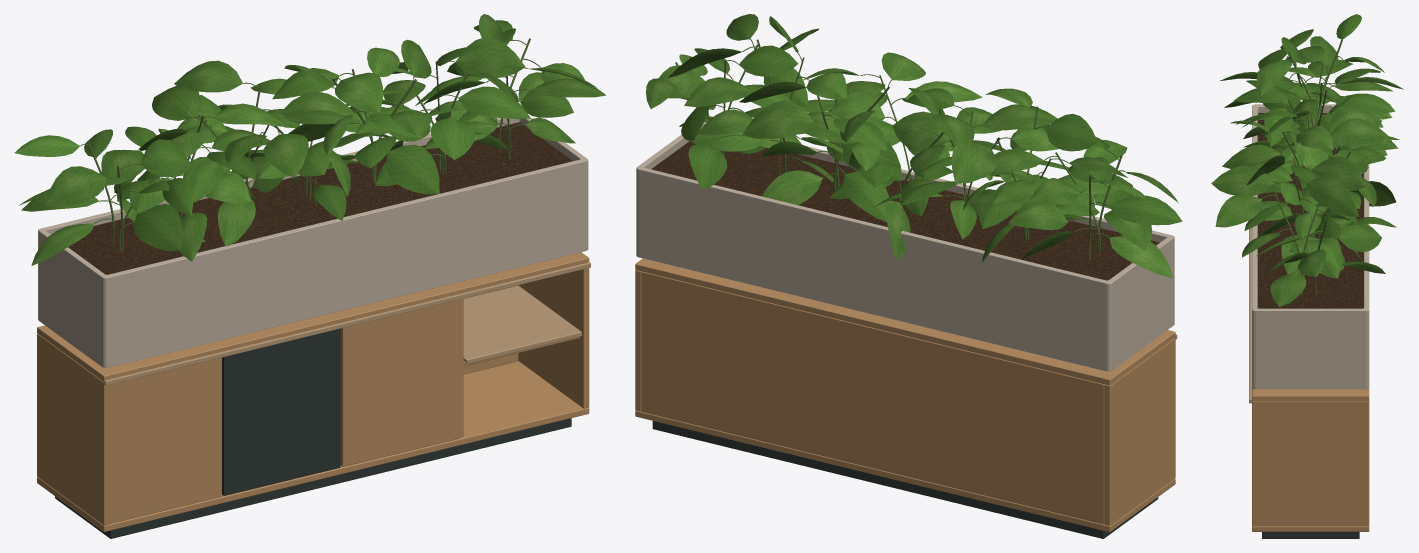
Rendered from botanicalDivider-13.glb.
3 renders of one model, left to right at view 1: azimuth 30°, elevation 25°; view 2: azimuth 150°, elevation 25°; view 3: azimuth 270°, elevation 25°, orthographic. The views are drawn at different scales.
Parts seen in each view (by area): view 1: Planter_pothos_leaves, Planter_oiled_oak, StoragePlanter_Door (×3), StoragePlanter_Side (×2), Planter_loose_soil, StoragePlanter_Bottom, StoragePlanter_Top, StoragePlanter_OpenShelf, StoragePlanter_Plinth, Planter_pothos_stems, StoragePlanter_AccentRail, StoragePlanter_Divider; view 2: StoragePlanter_Back, Planter_pothos_leaves, Planter_oiled_oak, Planter_loose_soil, StoragePlanter_Side (×2), StoragePlanter_Top, StoragePlanter_Plinth, StoragePlanter_Bottom, Planter_pothos_stems; view 3: Planter_pothos_leaves, StoragePlanter_Side, Planter_oiled_oak, Planter_loose_soil, Planter_pothos_stems, StoragePlanter_Top, StoragePlanter_Bottom, StoragePlanter_Plinth, StoragePlanter_AccentRail.
Boxes of the visible parts, left/top/right/bottom form: Planter_pothos_leaves: left=14, top=14, right=605, bottom=265; Planter_oiled_oak: left=38, top=117, right=588, bottom=367; StoragePlanter_Door (×3): left=109, top=299, right=459, bottom=523; StoragePlanter_Side (×2): left=37, top=268, right=589, bottom=525; Planter_loose_soil: left=68, top=122, right=572, bottom=274; StoragePlanter_Bottom: left=37, top=361, right=589, bottom=531; StoragePlanter_Top: left=37, top=252, right=589, bottom=381; StoragePlanter_OpenShelf: left=463, top=285, right=581, bottom=363; StoragePlanter_Plinth: left=55, top=418, right=571, bottom=538; Planter_pothos_stems: left=80, top=38, right=541, bottom=252; StoragePlanter_AccentRail: left=104, top=262, right=590, bottom=385; StoragePlanter_Divider: left=459, top=298, right=463, bottom=437; StoragePlanter_Back: left=641, top=271, right=1104, bottom=524; Planter_pothos_leaves: left=646, top=14, right=1182, bottom=277; Planter_oiled_oak: left=636, top=122, right=1174, bottom=371; Planter_loose_soil: left=651, top=140, right=1159, bottom=280; StoragePlanter_Side (×2): left=635, top=270, right=1175, bottom=525; StoragePlanter_Top: left=635, top=258, right=1175, bottom=385; StoragePlanter_Plinth: left=652, top=421, right=1158, bottom=538; StoragePlanter_Bottom: left=635, top=410, right=1175, bottom=532; Planter_pothos_stems: left=675, top=39, right=1125, bottom=259; Planter_pothos_leaves: left=1211, top=14, right=1403, bottom=307; StoragePlanter_Side: left=1252, top=401, right=1369, bottom=526; Planter_oiled_oak: left=1252, top=104, right=1369, bottom=389; Planter_loose_soil: left=1258, top=113, right=1363, bottom=308; Planter_pothos_stems: left=1262, top=39, right=1350, bottom=295; StoragePlanter_Top: left=1252, top=388, right=1369, bottom=401; StoragePlanter_Bottom: left=1252, top=526, right=1369, bottom=531; StoragePlanter_Plinth: left=1262, top=532, right=1359, bottom=538; StoragePlanter_AccentRail: left=1249, top=228, right=1251, bottom=403.
Size of the model in its own units: 2.26 by 1.58 by 0.7924.
Materials: 10 (2 with a texture image).
